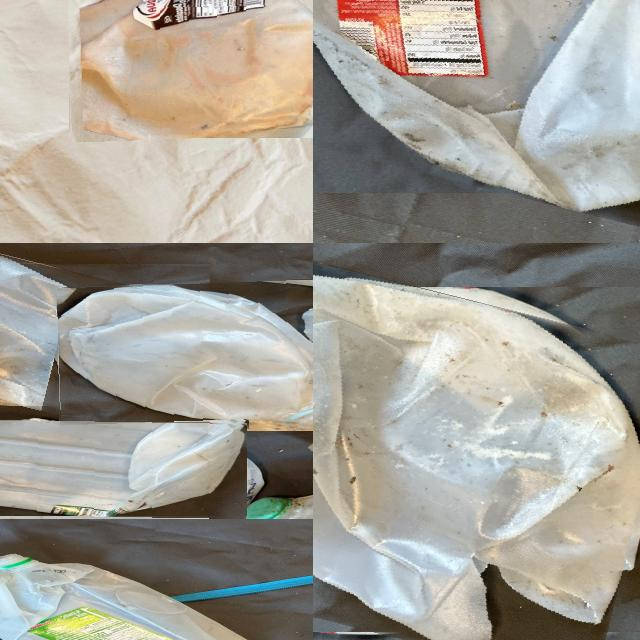milk-jug: (313, 257, 640, 640), (313, 0, 640, 218), (0, 243, 215, 425), (57, 280, 313, 432), (66, 0, 313, 139), (0, 417, 247, 516), (0, 556, 264, 640), (248, 482, 313, 520)
